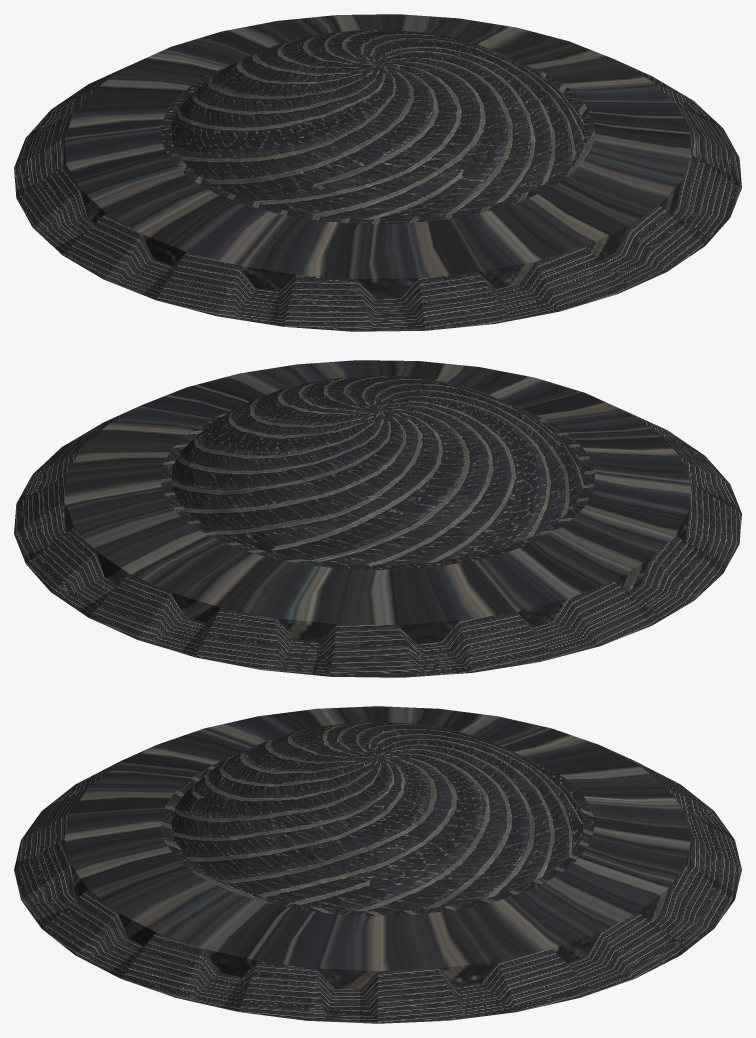
File: UFO_2.fbx
3 renders of one model, top to bottom at view 1: azimuth 30°, elevation 25°; view 2: azimuth 150°, elevation 25°; view 3: azimuth 270°, elevation 25°, orthographic.
Visible parts, largest first — view 1: Cylinder; view 2: Cylinder; view 3: Cylinder.
Boxes of the visible parts, x1,y1,x2,y2 form: Cylinder: [14, 14, 741, 331]; Cylinder: [14, 360, 741, 677]; Cylinder: [14, 706, 741, 1023].
Bounding box in the file's own units: 381 × 99.52 × 381.
